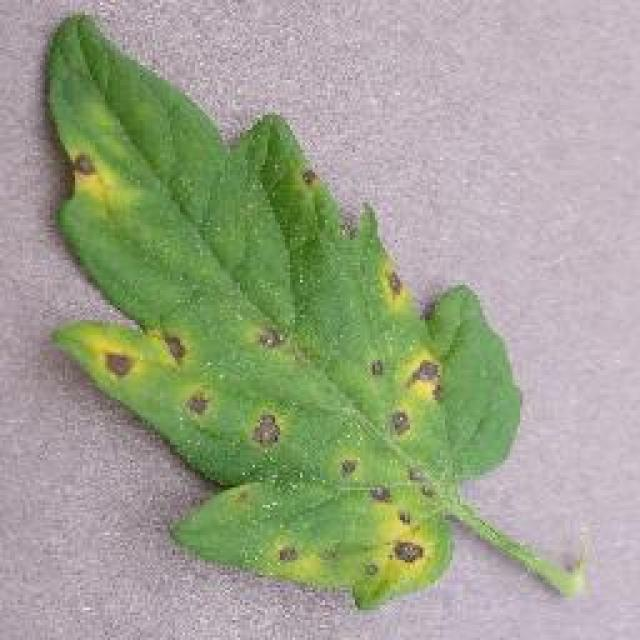Tomato Septoria spot leaf: (49, 11, 522, 606)
